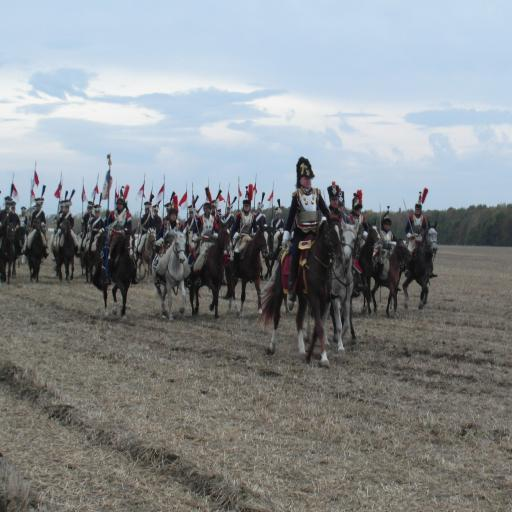horse: (254, 215, 344, 369), (319, 216, 357, 344), (186, 215, 229, 320), (96, 211, 134, 320), (223, 226, 270, 310), (366, 234, 412, 316), (154, 226, 188, 322), (404, 222, 439, 308), (354, 220, 378, 322), (51, 210, 78, 284), (24, 218, 48, 286), (84, 221, 107, 286), (132, 224, 158, 280), (0, 219, 22, 283), (77, 226, 92, 276), (12, 224, 24, 278)
